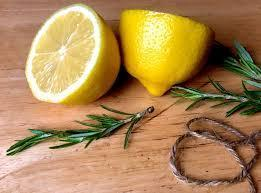lemon: (25, 2, 122, 104), (119, 10, 215, 96)
